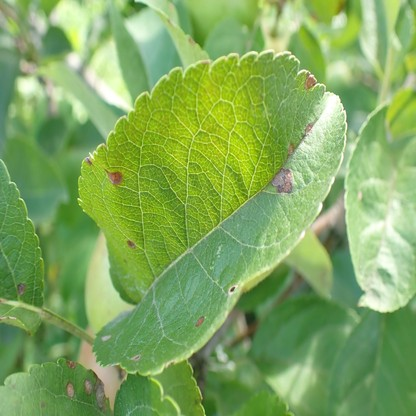frogeye_leaf_spot: (67, 359, 106, 410), (272, 168, 292, 192), (105, 169, 123, 185), (306, 72, 315, 90), (126, 239, 135, 250), (17, 283, 25, 295), (228, 286, 238, 295), (196, 316, 204, 327), (101, 335, 113, 342), (130, 355, 141, 361)
